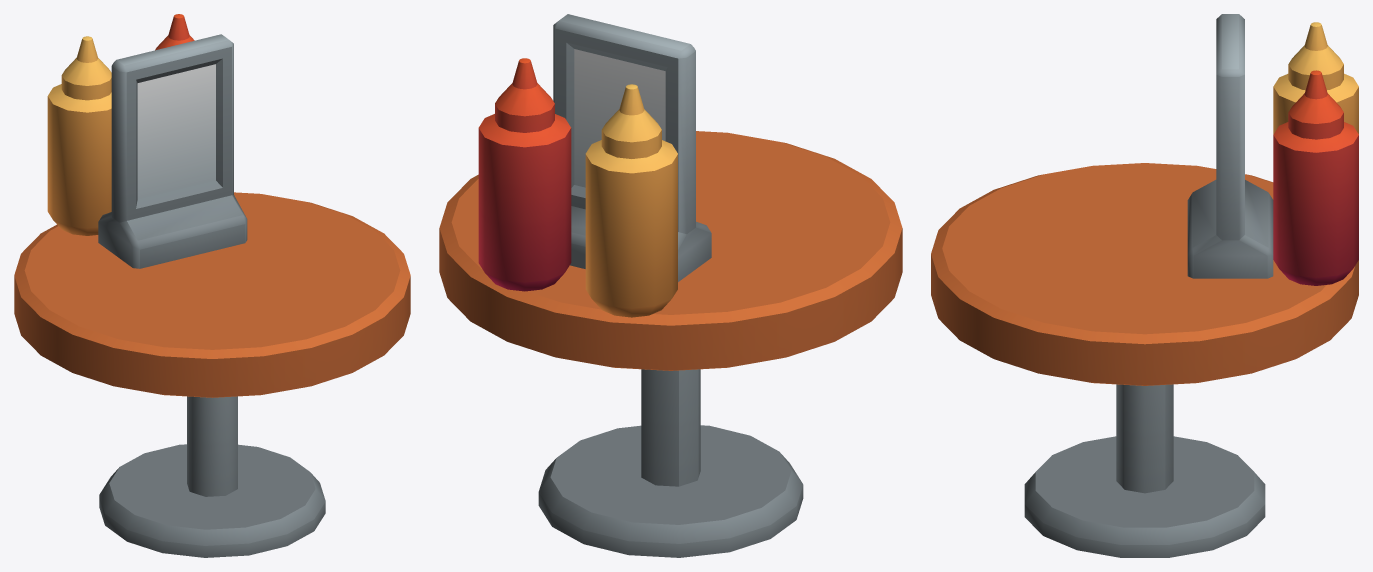
The model's file is kay-table_round_a_small_decorated.glb.
3 views of the same model, side by side, from view 1: azimuth 30°, elevation 25°; view 2: azimuth 150°, elevation 25°; view 3: azimuth 270°, elevation 25° (orthographic). The views are drawn at different scales.
Visible parts, largest first — view 1: table_round_A_small_decorated; view 2: table_round_A_small_decorated; view 3: table_round_A_small_decorated.
Part boxes in pixels (x1,y1,x2,y2): table_round_A_small_decorated: [14, 14, 410, 557]; table_round_A_small_decorated: [439, 14, 902, 557]; table_round_A_small_decorated: [931, 14, 1358, 557].
Bounding box in the file's own units: 1.17 × 1.4 × 1.17.
Materials: 1 (1 with a texture image).
